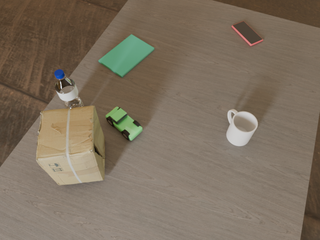book: (99, 35, 154, 77)
bottle: (54, 70, 84, 108)
box: (36, 106, 105, 185)
cup: (227, 109, 258, 146)
phone: (232, 21, 263, 46)
toy_car: (106, 107, 142, 140)
